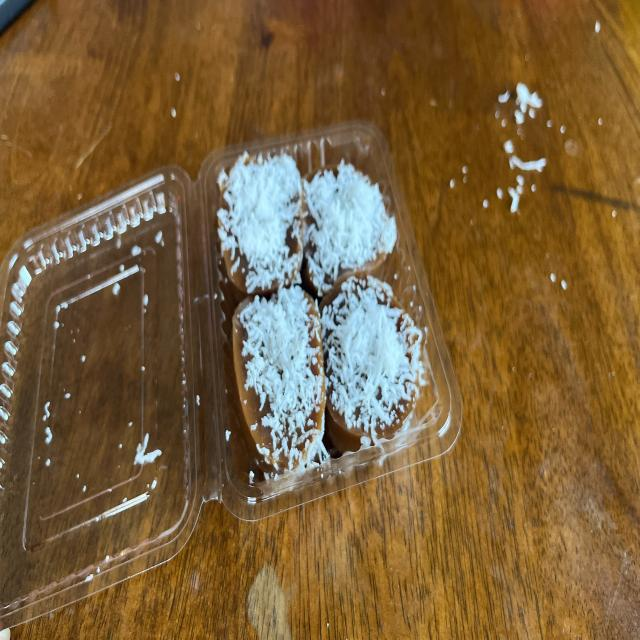Kuih lompang: (320, 276, 426, 451), (232, 284, 328, 471), (304, 160, 396, 296), (218, 151, 302, 296)
